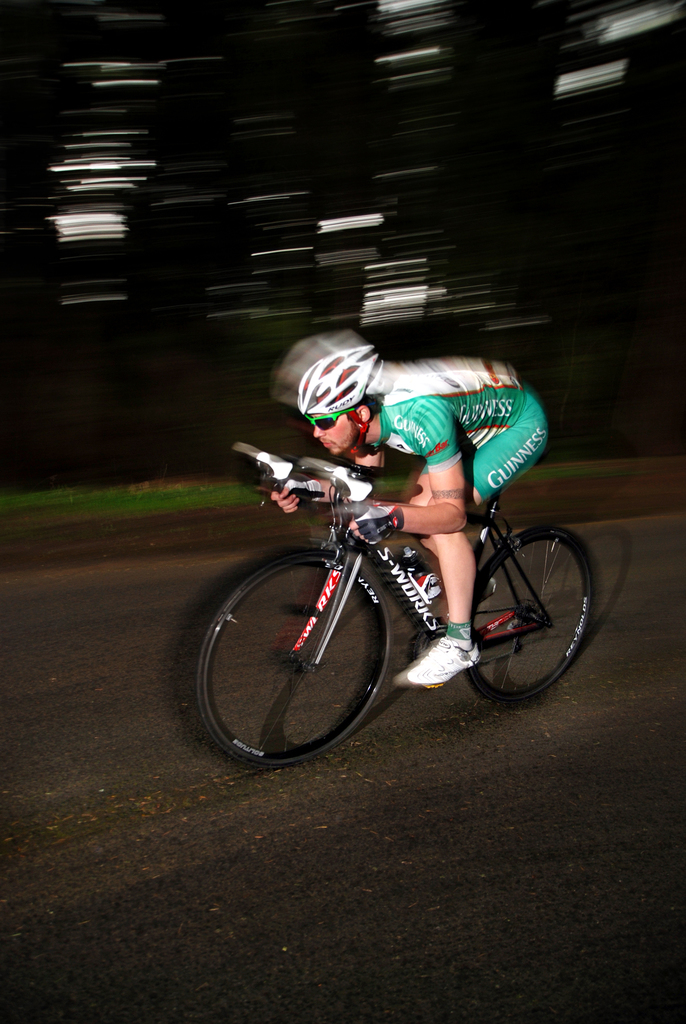Bike_toward: (182, 436, 616, 765)
